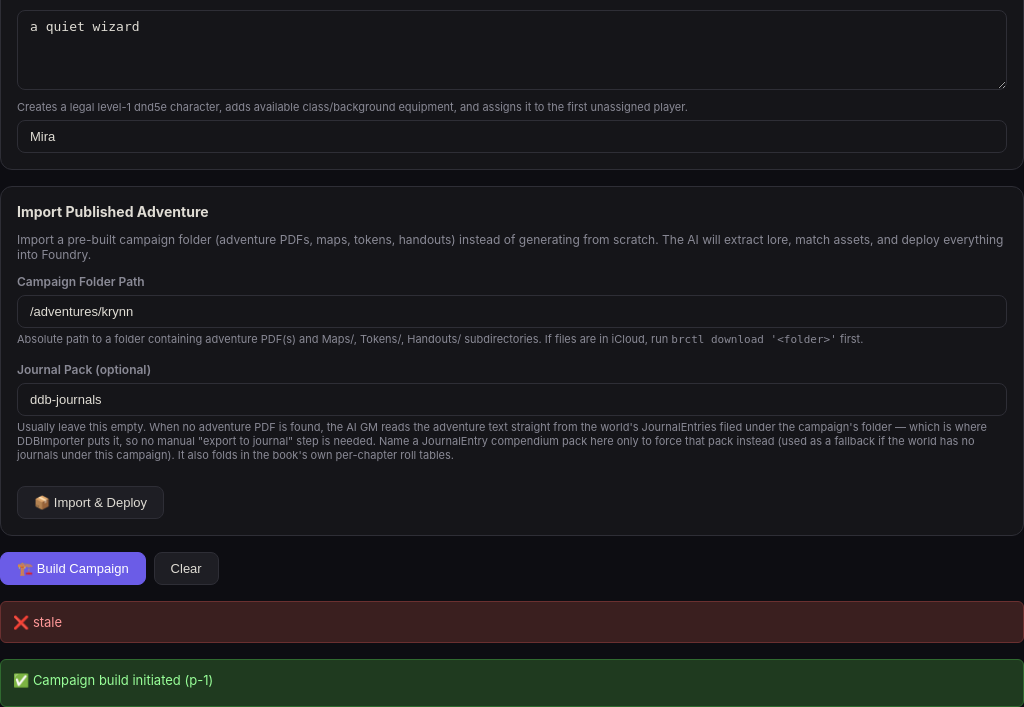
Scenario: CampaignBuilder › clears every field on the form
(page scrolled)
What coordinates should you click on to do the following:
click the button "Clear"
I would click on:
 (186, 568)
Its box is [154,552,219,585].
(page scrolled)
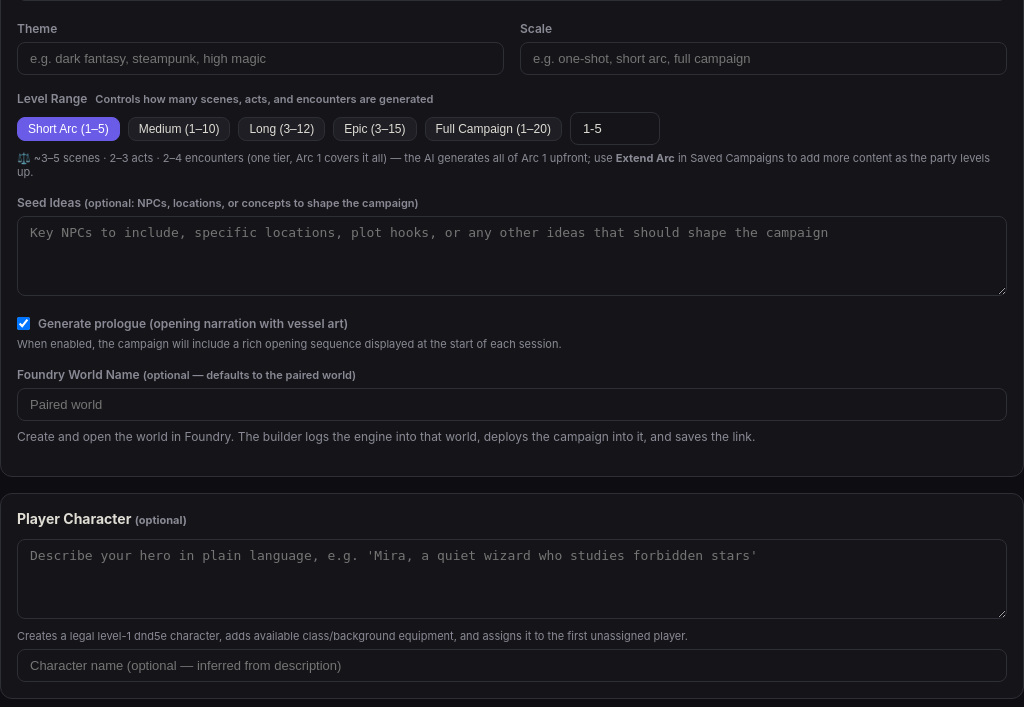
expect the field labelled "Theme" is empty: met, box [17,42,504,75]
expect the field labelled "Scale" is empty: met, box [520,42,1007,75]
expect the text box labelled "Seed Ideas" is empty: met, box [17,216,1007,296]
